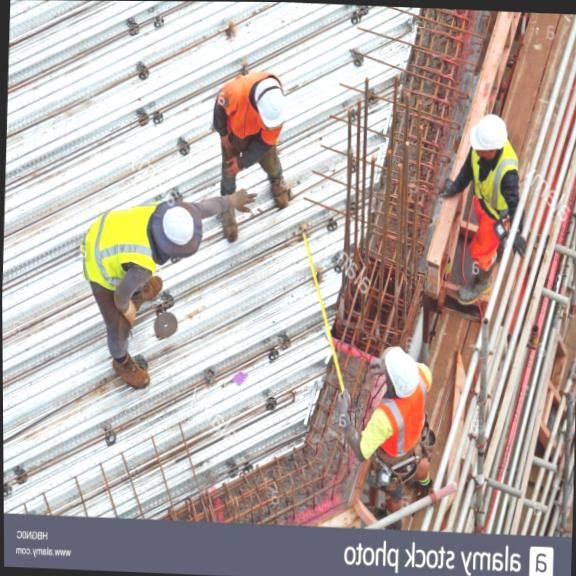safety_vest: (77, 194, 160, 298), (374, 382, 435, 466), (463, 159, 515, 220)
